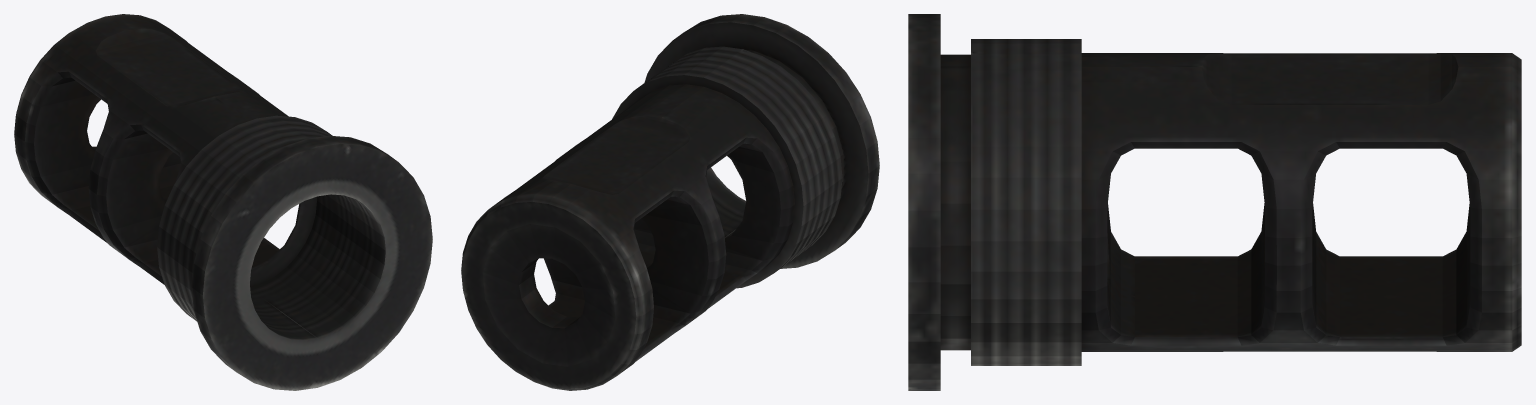
3 views of the same model, side by side, from view 1: azimuth 30°, elevation 25°; view 2: azimuth 150°, elevation 25°; view 3: azimuth 270°, elevation 25° (orthographic). The views are drawn at different scales.
Visible parts, largest first — view 1: TW_612e0d81290d254f5e6b291a_PZ_Import; view 2: TW_612e0d81290d254f5e6b291a_PZ_Import; view 3: TW_612e0d81290d254f5e6b291a_PZ_Import.
Part boxes in pixels (bbox=[...]): TW_612e0d81290d254f5e6b291a_PZ_Import: bbox=[14, 14, 432, 390]; TW_612e0d81290d254f5e6b291a_PZ_Import: bbox=[461, 14, 879, 390]; TW_612e0d81290d254f5e6b291a_PZ_Import: bbox=[908, 14, 1521, 390].
Bounding box in the file's own units: 0.018 × 0.0292 × 0.018.
1 material, 1 textured.
